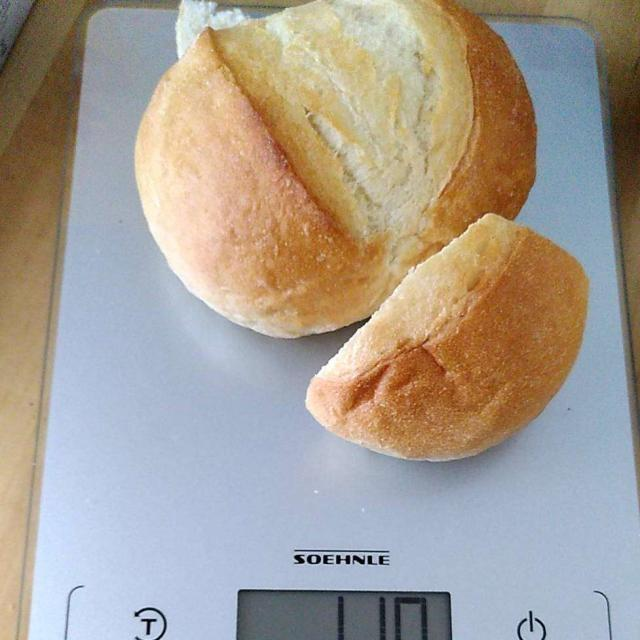bread: (140, 7, 580, 455)
